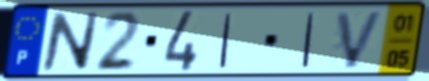2: (96, 9, 145, 73)
4: (162, 8, 200, 74)
I: (217, 12, 236, 71), (299, 11, 318, 70)
N: (39, 11, 102, 73)
V: (334, 8, 387, 71)
